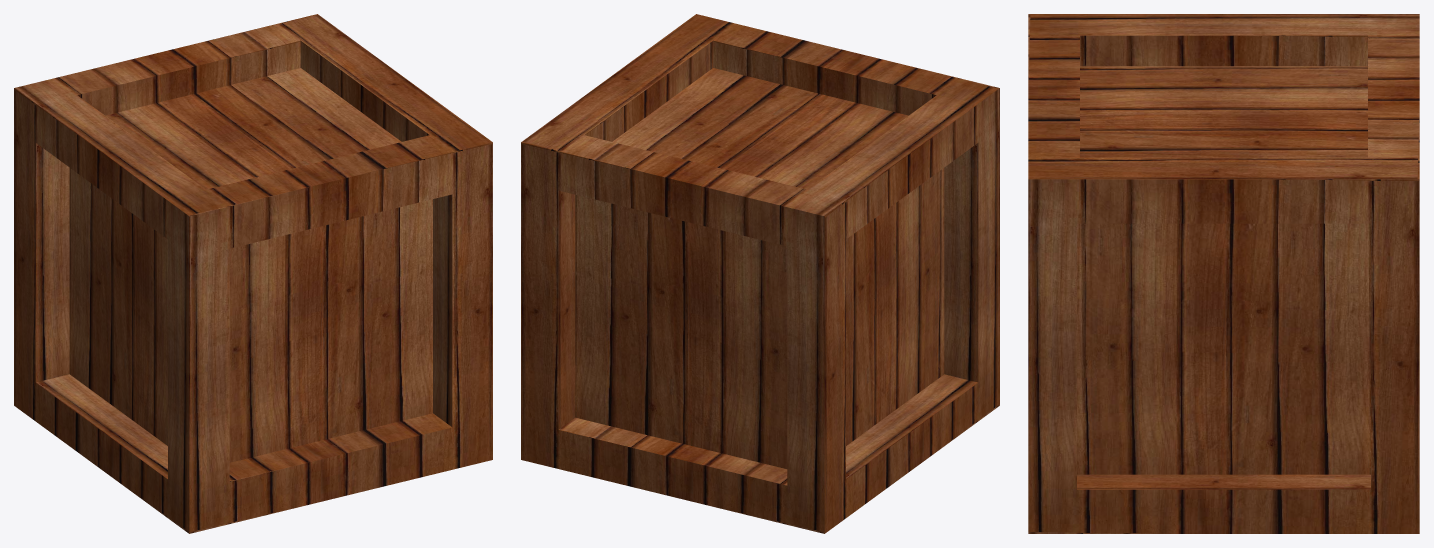
3 renders of one model, left to right at view 1: azimuth 30°, elevation 25°; view 2: azimuth 150°, elevation 25°; view 3: azimuth 270°, elevation 25°, orthographic. The views are drawn at different scales.
Parts seen in each view (by area): view 1: Cube; view 2: Cube; view 3: Cube.
Boxes of the visible parts, x1=… form: Cube: x1=14, y1=14, x2=492, y2=533; Cube: x1=521, y1=14, x2=999, y2=533; Cube: x1=1028, y1=14, x2=1419, y2=533.
Size of the model in its own units: 5.11 by 5.11 by 5.11.
Materials: 1 (1 with a texture image).
